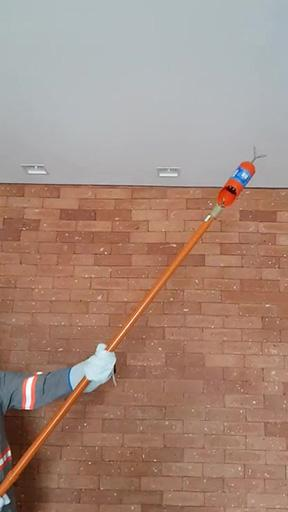Detector_Tensao_Contato: (215, 146, 266, 207)
Vara_Manobra: (1, 206, 222, 489)
